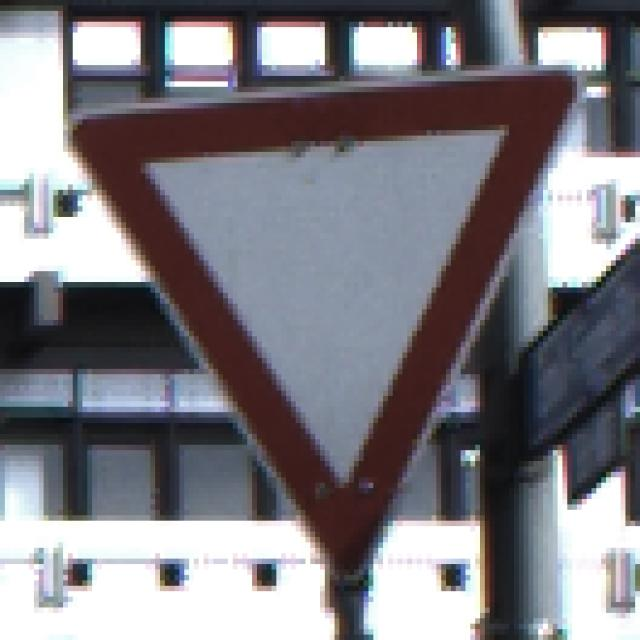Give Way: (54, 55, 588, 587)
